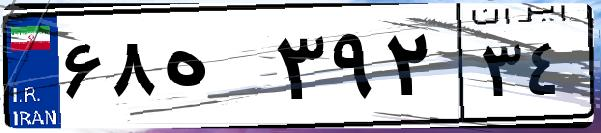2: (385, 28, 445, 110)
3: (270, 28, 330, 110), (475, 38, 525, 113)
4: (525, 38, 570, 115)
6: (57, 26, 110, 100)
8: (110, 28, 158, 98)
9: (330, 28, 385, 110)
ه: (158, 20, 270, 120)
